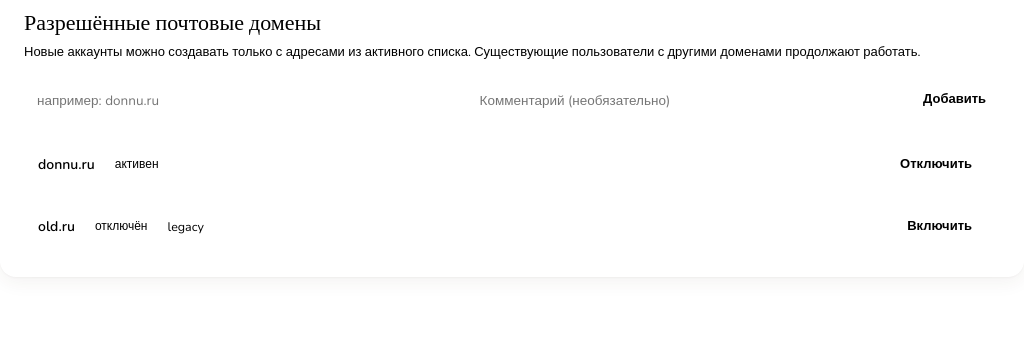
it: shows backend error on failed add (e.g. 409 duplicate)
Check: the text "donnu.ru" is shown, box [38,155,95,174]
Type "donnu.ru" into the field named "Домен" at [240, 101], box [24,82,456,119]
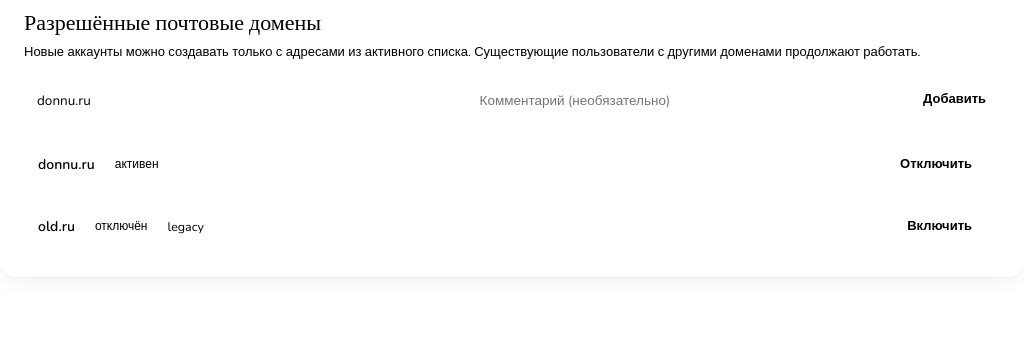
Click the button "Добавить" at [954, 99], box [909,82,1000,116]
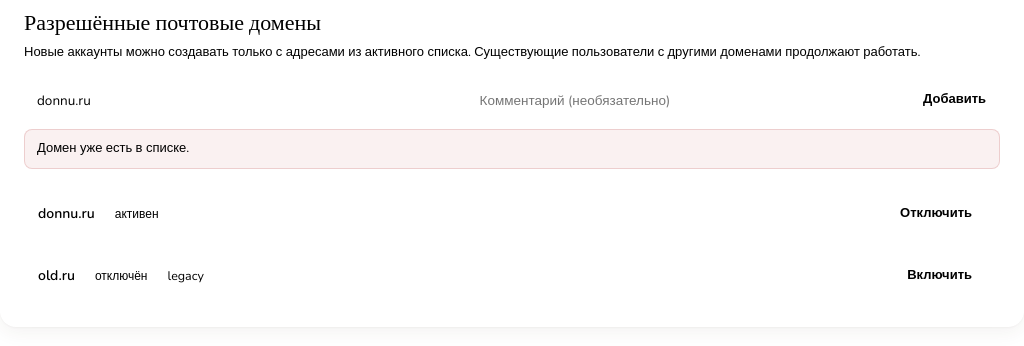
Check: the text "Домен уже есть в списке." is shown, box [24,129,1000,169]
